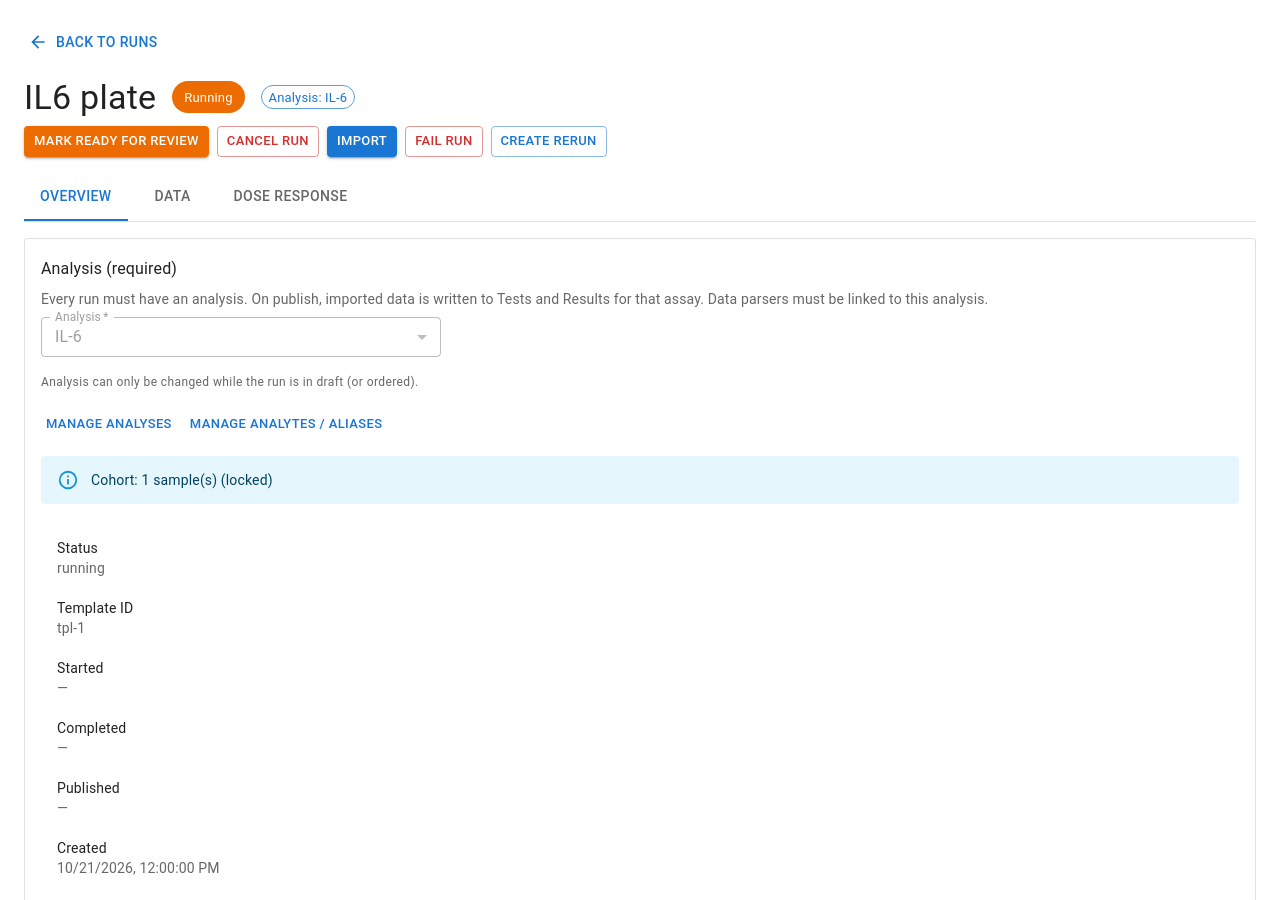
Test: LimsRunDetail ELISA gaps › a dual match stays linked and a miss stays on the data tab
The width and height of the screenshot is (1280, 900).
Step 1. Click the tab "Data" → [173, 197], box [128,173,218,221]
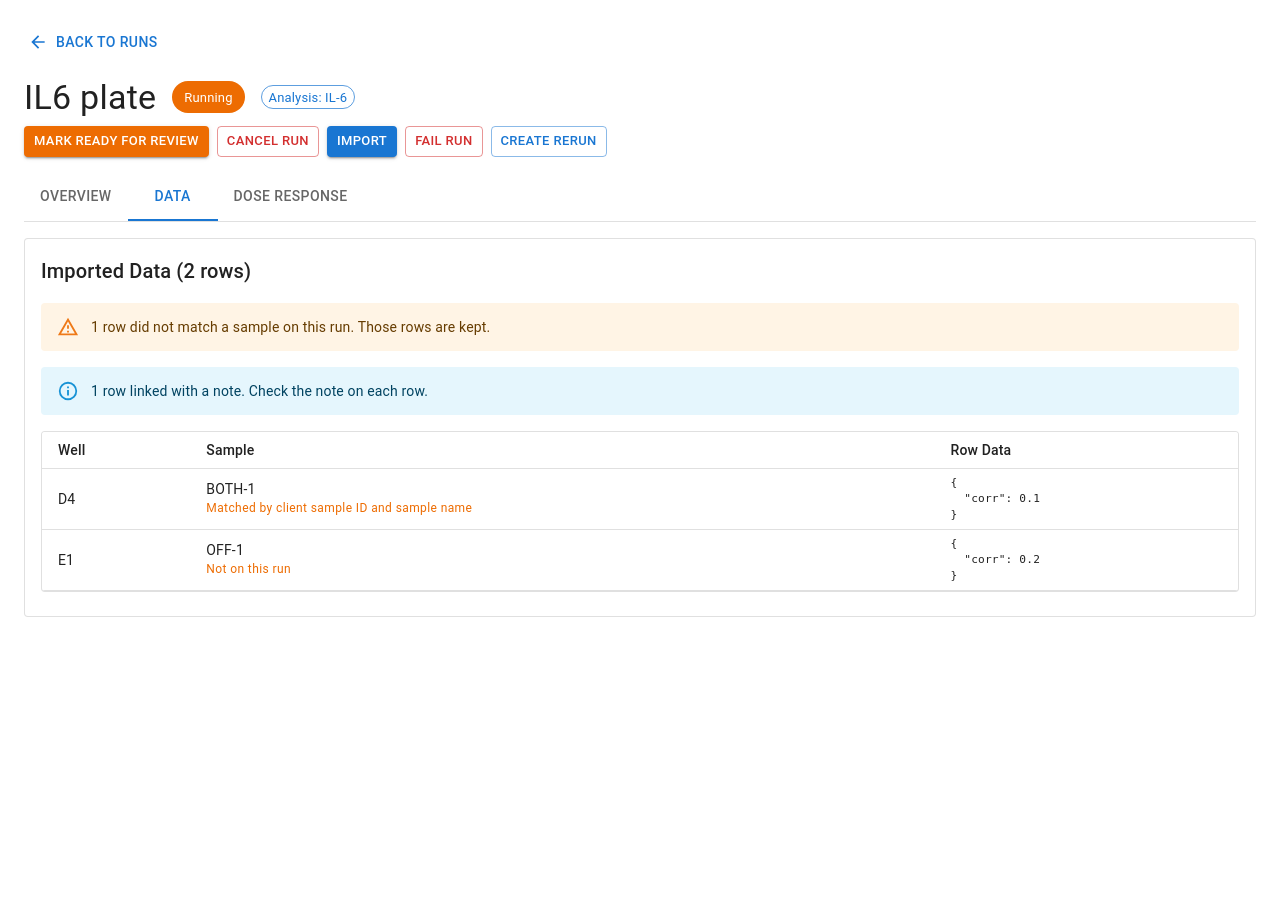
expect the message with test id "link-flag-summary" shows "1 row linked with a note": met, box [41,367,1239,415]
expect the text "Matched by client sample ID and sample name" is shown: met, box [206,501,472,515]
expect the message with test id "unmatched-summary" shows "1 row did not match": met, box [41,303,1239,351]
